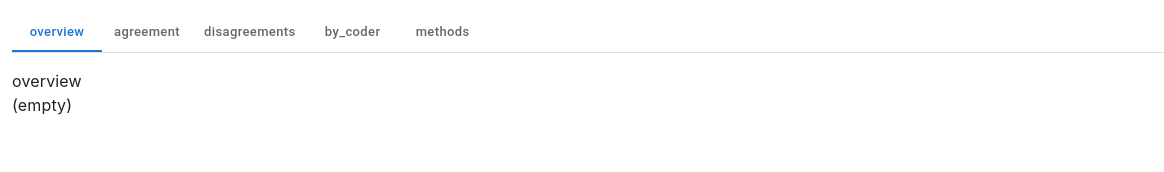
Test: Phase 7 workspace tab contracts › reliability tabs persist in the URL
The image size is (1164, 172).
Check: the text with test id "tab-value" reads "overview", box x1=12 y1=71 x2=82 y2=91
What coordinates should you click on to do the following:
click the tab "disagreements"
I would click on:
 (250, 32)
Its box is x1=192 y1=12 x2=308 y2=52.
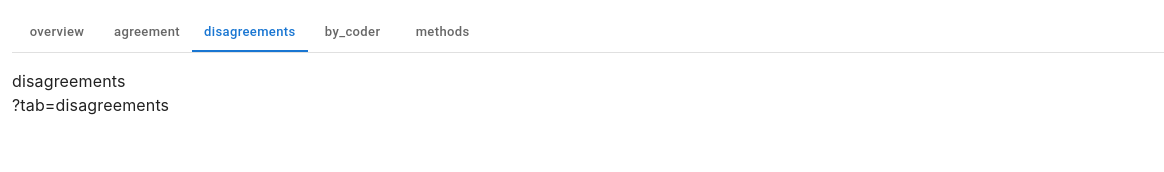
Check: the text with test id "tab-value" reads "disagreements", box x1=12 y1=71 x2=126 y2=91
Check: the text with test id "search" shows "tab=disagreements", box x1=12 y1=95 x2=169 y2=115
